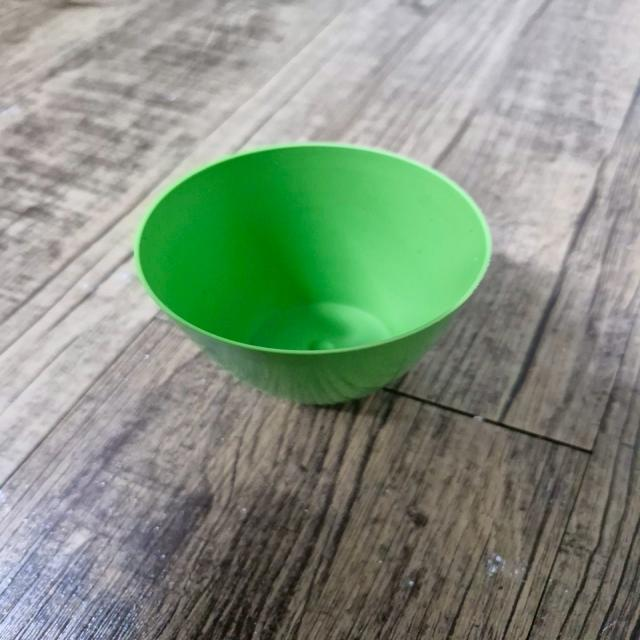plastic cup: (135, 139, 498, 408)
